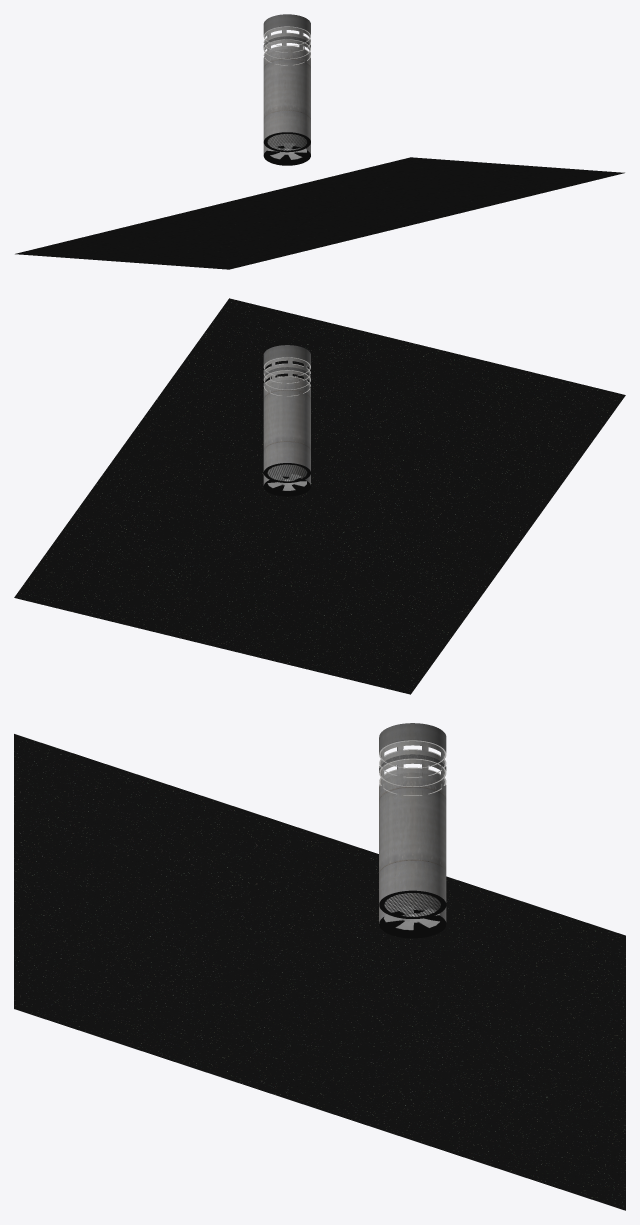
Rendered from environment.glb.
The picture shows the model from 3 angles, top to bottom: view 1: azimuth 30°, elevation 25°; view 2: azimuth 150°, elevation 25°; view 3: azimuth 270°, elevation 25°; orthographic projection. The views are drawn at different scales.
Visible parts, largest first — view 1: space, warehouse; view 2: space, warehouse; view 3: space, warehouse, fan.
Part boxes in pixels (x1,y1,x2,y2): space: (15, 157, 624, 269); warehouse: (263, 14, 310, 165); space: (14, 298, 625, 694); warehouse: (263, 345, 310, 496); space: (14, 734, 625, 1210); warehouse: (379, 723, 446, 938); fan: (383, 906, 439, 930).
Size of the model in its own units: 300 by 171 by 282.
5 materials, 5 textured.
